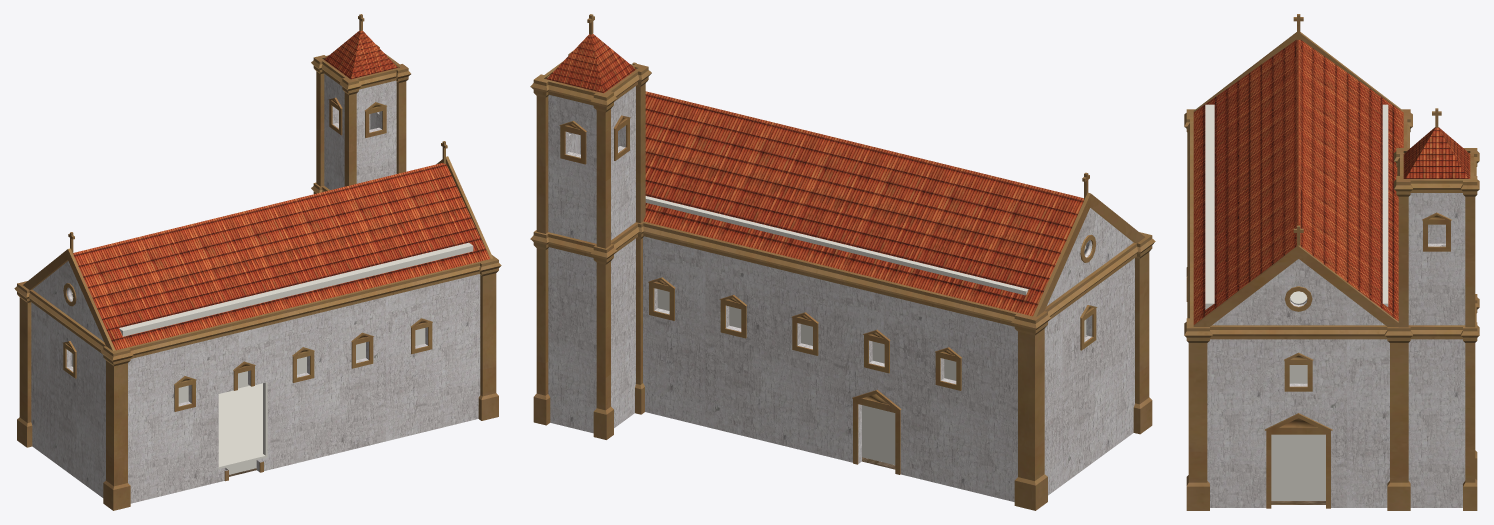
File: chapel.access-v6.lod0.glb
The picture shows the model from 3 angles, left to right: view 1: azimuth 30°, elevation 25°; view 2: azimuth 150°, elevation 25°; view 3: azimuth 270°, elevation 25°; orthographic projection. The views are drawn at different scales.
Visible parts, largest first — view 1: Object_6, Object_5, Object_4, Walkable floors and stairs; view 2: Object_6, Object_5, Object_4, Walkable floors and stairs; view 3: Object_6, Object_5, Object_4, Walkable floors and stairs.
Part boxes in pixels (box(x1,y1,x2,y2)): Object_6: box(31, 73, 480, 503); Object_5: box(73, 30, 490, 350); Object_4: box(14, 14, 501, 510); Walkable floors and stairs: box(71, 243, 473, 474); Object_6: box(548, 86, 1134, 501); Object_5: box(546, 34, 1083, 316); Object_4: box(530, 14, 1155, 510); Walkable floors and stairs: box(645, 196, 1086, 464); Object_6: box(1207, 193, 1465, 507); Object_5: box(1193, 39, 1470, 324); Object_4: box(1184, 14, 1479, 510); Walkable floors and stairs: box(1205, 104, 1388, 500).
Bounding box in the file's own units: 12 × 9.75 × 6.78.
Materials: 5 (4 with a texture image).
